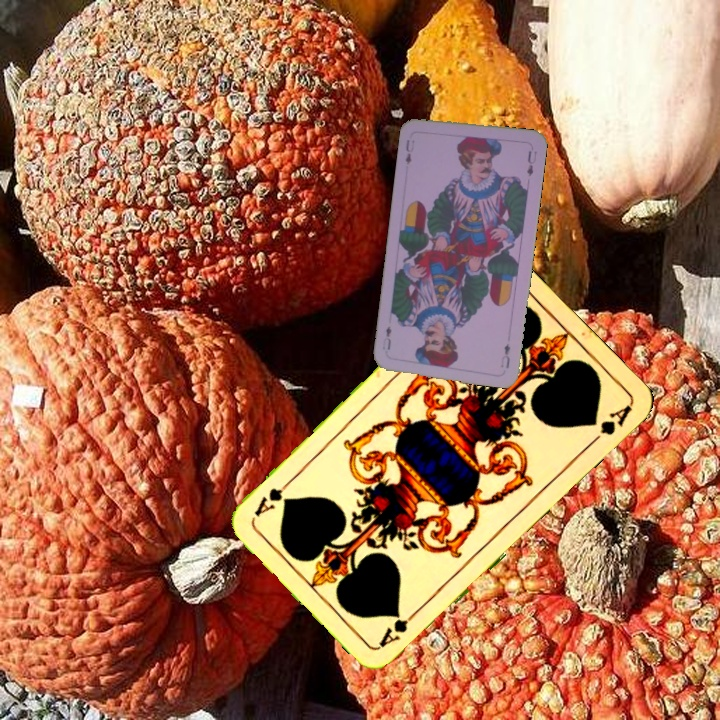EU: (497, 339, 513, 371), (401, 136, 417, 167)
GA: (375, 604, 423, 650)
